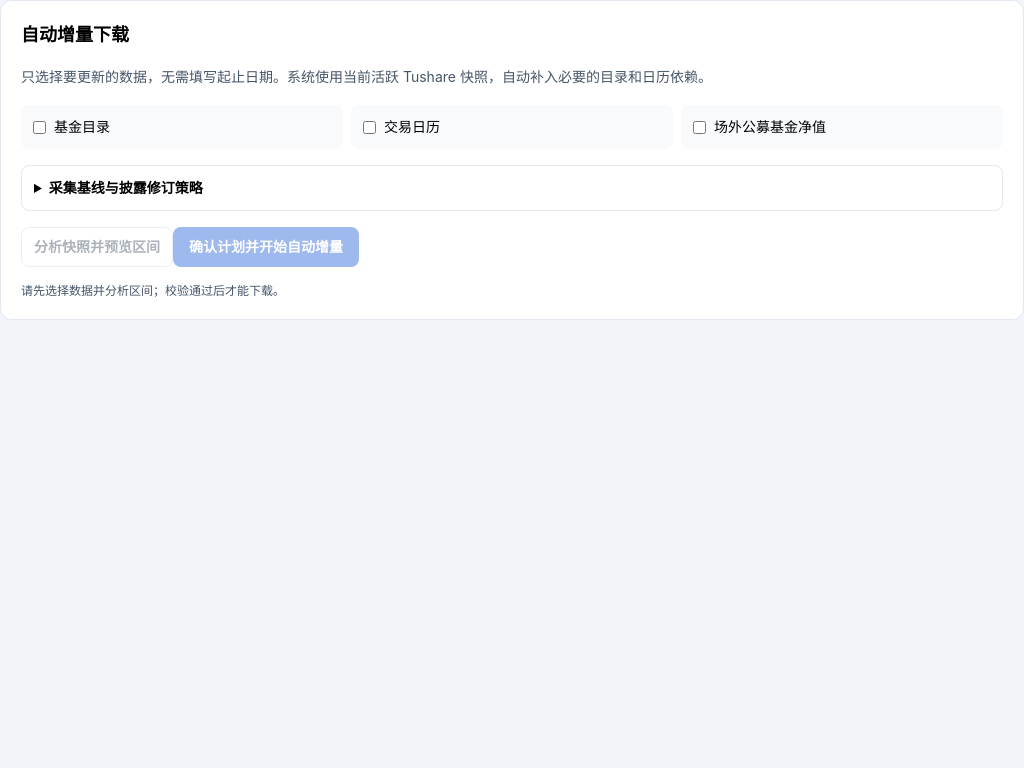
Test: 修改数据集立即清除过期计划，基线缺失不能启动
The image size is (1024, 768).
Click the checkbox labelled "场外公募基金净值".
click(700, 128)  # box [693,121,706,134]
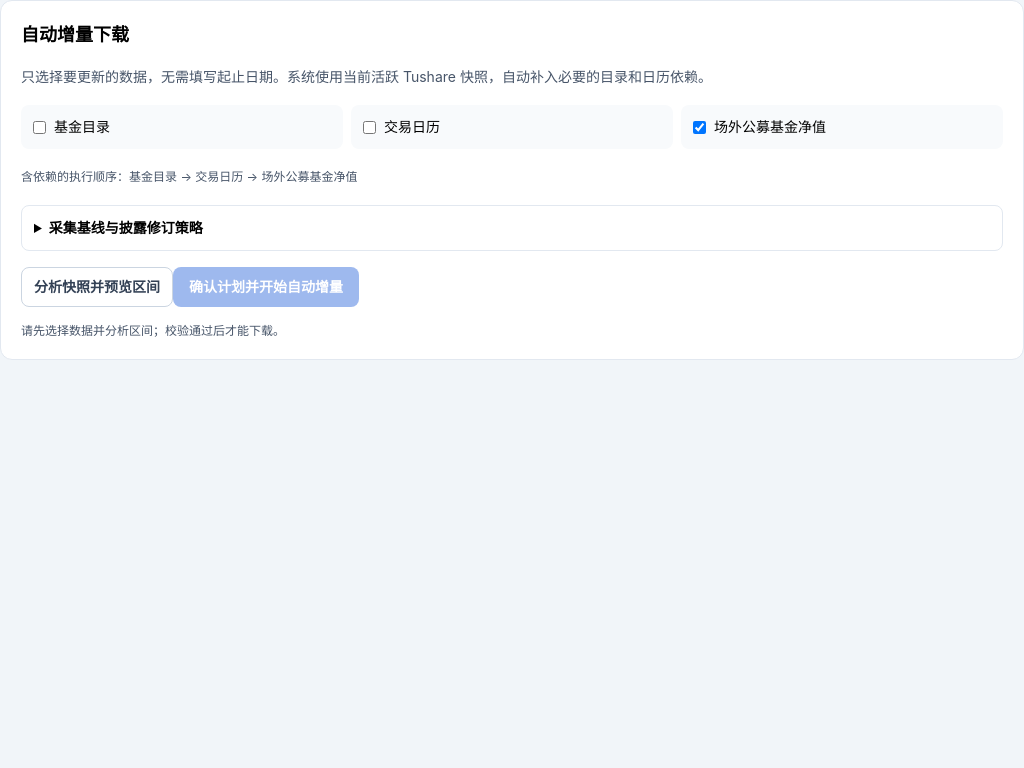
Click the button "分析快照并预览区间".
click(97, 287)  # box [21,267,173,307]
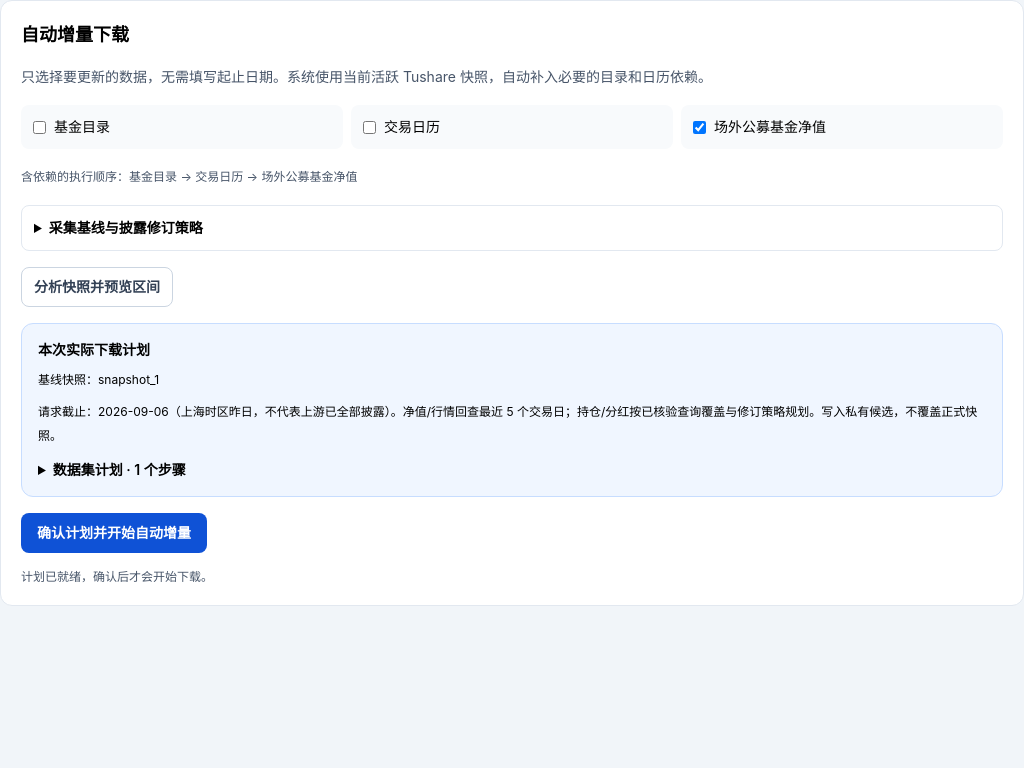
Expected: the button "确认计划并开始自动增量" is enabled, [21,513,207,553]
Click the checkbox labelled "基金目录".
click(40, 128)  # box [33,121,46,134]
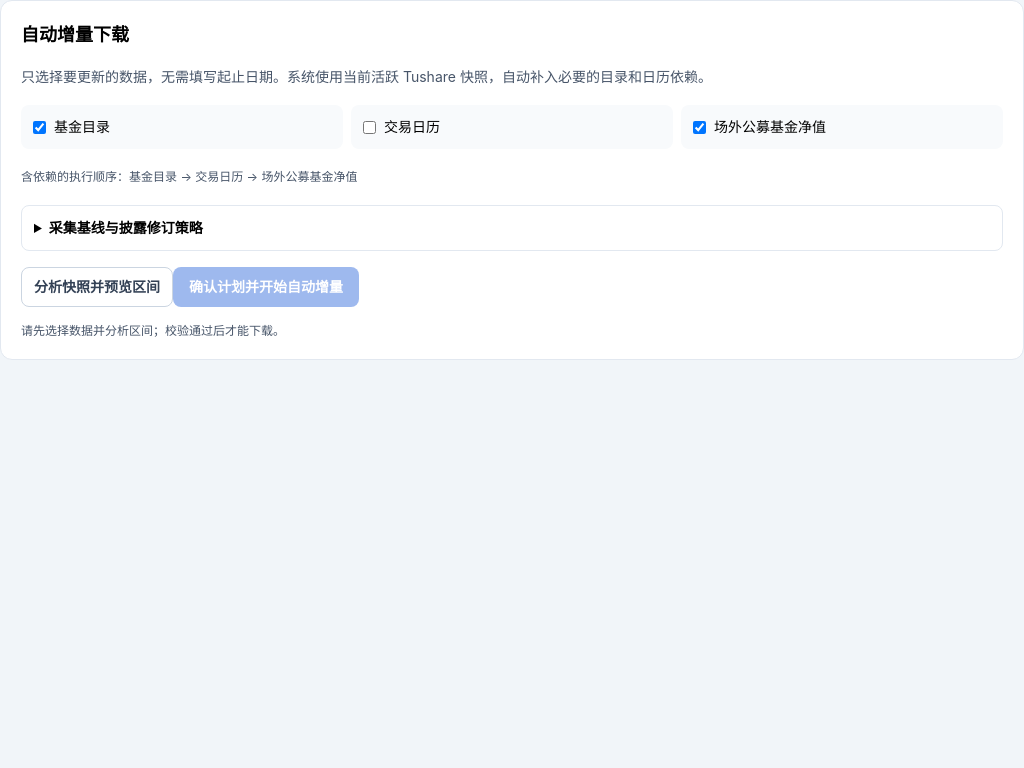
Expected: the button "确认计划并开始自动增量" is disabled, [173,267,359,307]
Click the button "分析快照并预览区间".
click(97, 287)  # box [21,267,173,307]
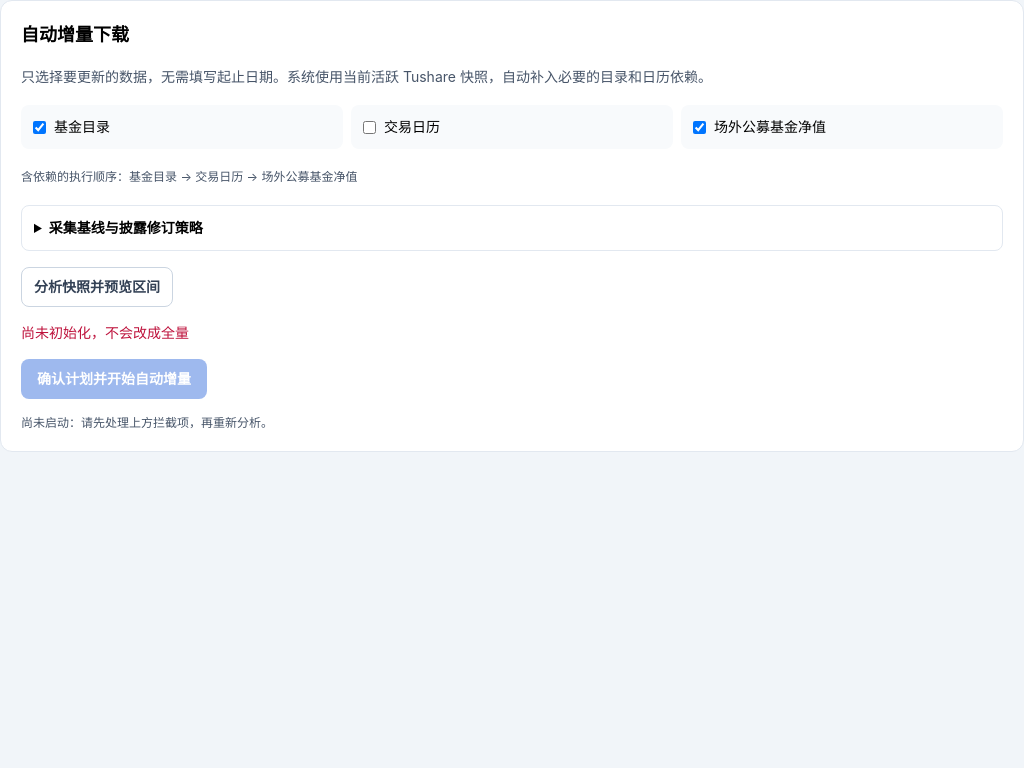
Expected: the message "尚未初始化，不会改成全量" is shown, [21,324,189,341]
